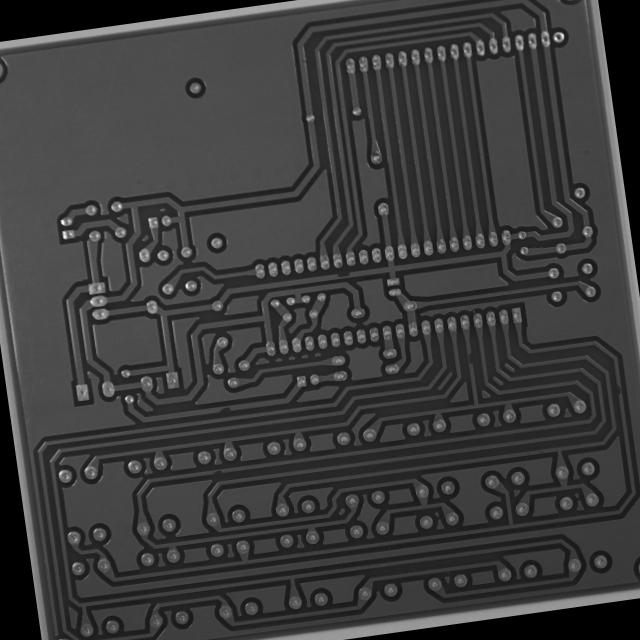mouse_bite: (211, 401, 235, 418), (463, 348, 478, 368), (332, 268, 353, 282), (611, 380, 625, 400), (208, 465, 226, 479)
